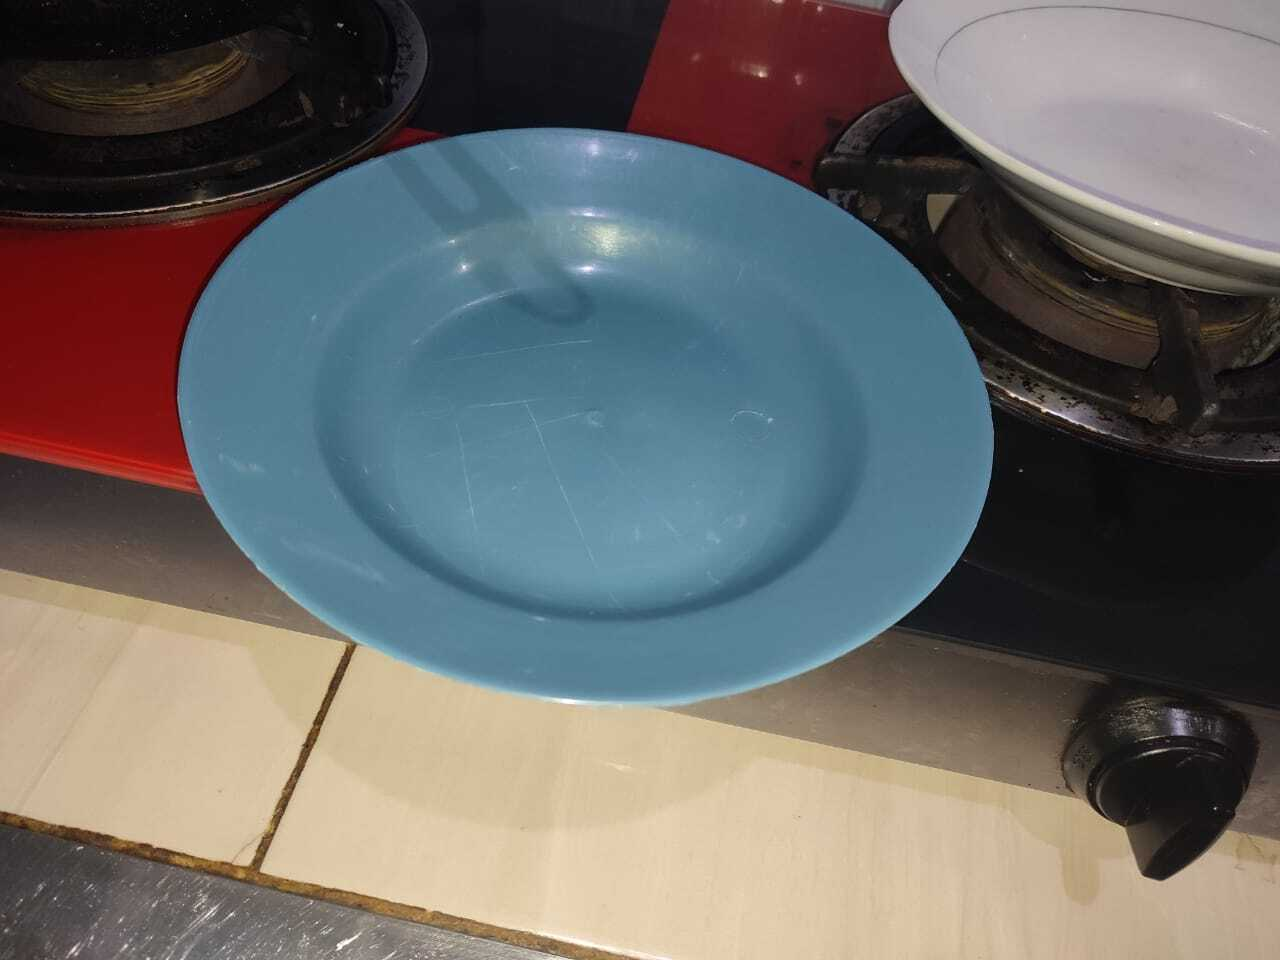piring: (173, 124, 982, 706), (887, 2, 1280, 265)
